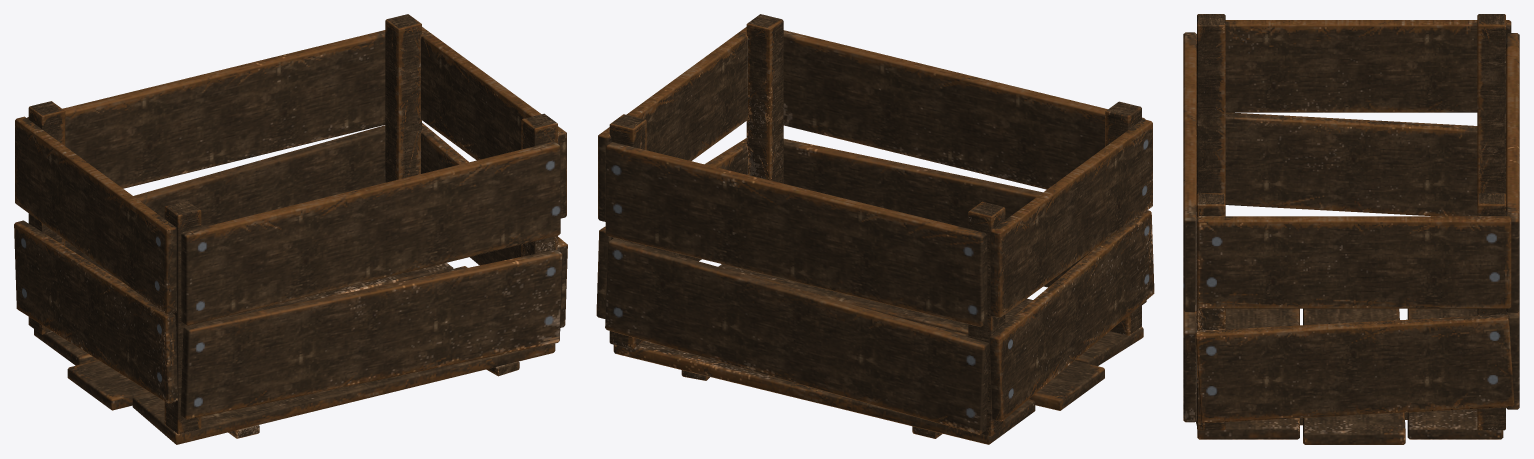
File: SmallCrate.fbx
3 renders of one model, left to right at view 1: azimuth 30°, elevation 25°; view 2: azimuth 150°, elevation 25°; view 3: azimuth 270°, elevation 25°, orthographic. The views are drawn at different scales.
Parts seen in each view (by area): view 1: SmallCrateMesh; view 2: SmallCrateMesh; view 3: SmallCrateMesh.
Boxes of the visible parts, left/top/right/bottom form: SmallCrateMesh: left=14, top=14, right=567, bottom=444; SmallCrateMesh: left=596, top=14, right=1154, bottom=444; SmallCrateMesh: left=1183, top=14, right=1519, bottom=444.
Size of the model in its own units: 70.95 by 39.86 by 49.47.
Materials: 1 (1 with a texture image).
